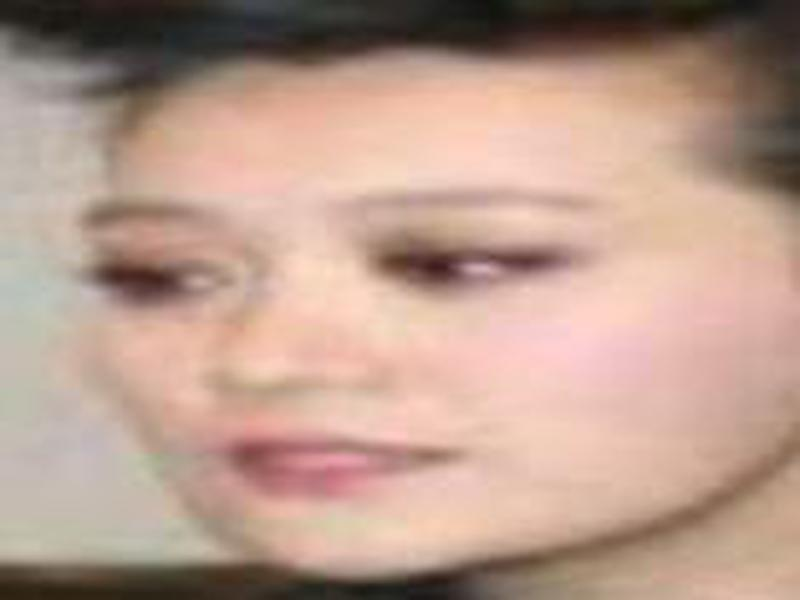without_mask: (66, 59, 800, 589)
